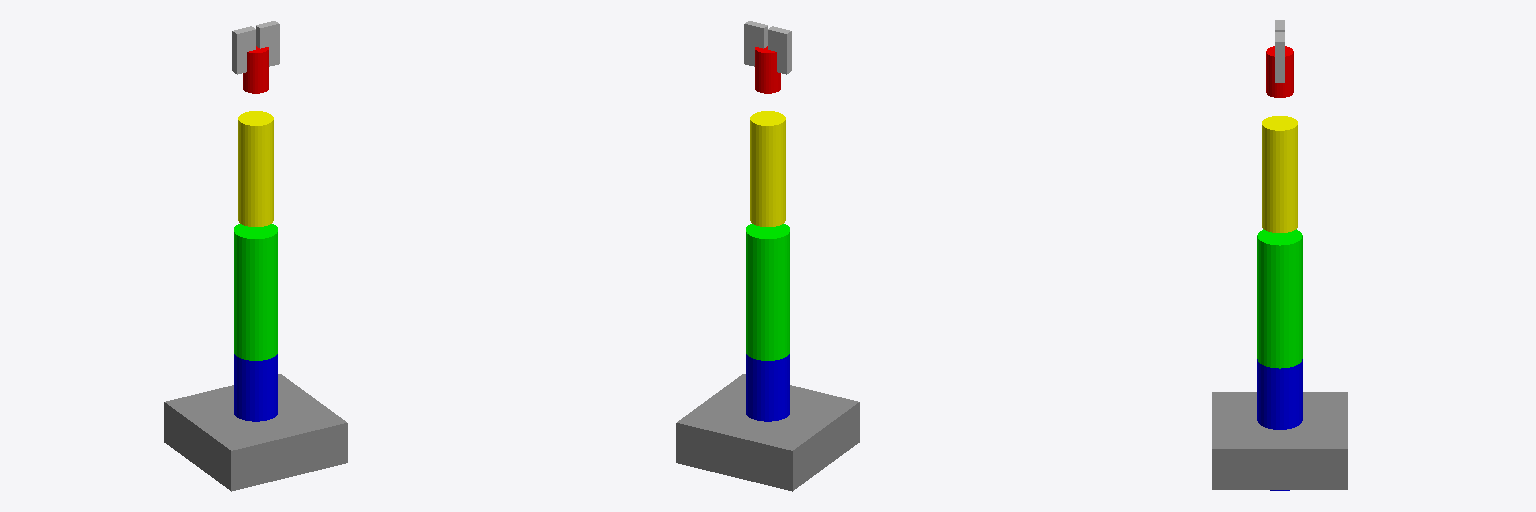
robot.urdf — simple_claw_robot:
<?xml version="1.0"?>
<robot name="simple_claw_robot">

  <!-- Base Link -->
  <link name="base_link">
    <visual>
      <geometry>
        <box size="0.3 0.3 .1"/>
      </geometry>
      <material name="gray">
        <color rgba="0.6 0.6 0.6 1.0"/>
      </material>
    </visual>
  </link>

  <!-- Arm Segment 1 -->
  <link name="arm_link1">
    <visual>
      <geometry>
        <cylinder radius="0.05" length="0.3"/>
      </geometry>
      <material name="blue">
        <color rgba="0.0 0.0 1.0 1.0"/>
      </material>
    </visual>
  </link>

  <joint name="shoulderH" type="revolute">
    <parent link="base_link"/>
    <child link="arm_link1"/>
    <origin xyz="0 0 0.05" rpy="0 0 0"/>
    <axis xyz="0 0 1"/>
    <limit lower="-1.57" upper="1.57" effort="1.0" velocity="1.0"/>
  </joint>

  <!-- Arm Segment 2 -->
  <link name="arm_link2">
    <visual>
      <geometry>
        <cylinder radius="0.05" length="0.3"/>
      </geometry>
      <material name="green">
        <color rgba="0.0 1.0 0.0 1.0"/>
      </material>
    </visual>
  </link>

  <joint name="shoulderV" type="revolute">
    <parent link="arm_link1"/>
    <child link="arm_link2"/>
    <origin xyz="0 0 0.3" rpy="0 0 0"/>
    <axis xyz="0 1 0"/>
    <limit lower="-1.57" upper="1.57" effort="1.0" velocity="1.0"/>
  </joint>

  <!-- Arm Segment 3 -->
  <link name="arm_link3">
    <visual>
      <geometry>
        <cylinder radius="0.04" length="0.25"/>
      </geometry>
      <material name="yellow">
        <color rgba="1.0 1.0 0.0 1.0"/>
      </material>
    </visual>
  </link>

  <joint name="elbow" type="revolute">
    <parent link="arm_link2"/>
    <child link="arm_link3"/>
    <origin xyz="0 0 0.3" rpy="0 0 0"/>
    <axis xyz="0 1 0"/>
    <limit lower="-1.57" upper="1.57" effort="1.0" velocity="1.0"/>
  </joint>

  <!-- Claw Base Link -->
  <link name="claw_base">
    <visual>
      <geometry>
        <cylinder radius="0.03" length="0.1"/>
      </geometry>
      <material name="red">
        <color rgba="1.0 0.0 0.0 1.0"/>
      </material>
    </visual>
  </link>

  <joint name="wrist" type="revolute">
    <parent link="arm_link3"/>
    <child link="claw_base"/>
    <origin xyz="0 0 0.25" rpy="0 0 0"/>
    <axis xyz="0 1 0"/>
    <limit lower="-1.57" upper="1.57" effort="1.0" velocity="1.0"/>
  </joint>

  <!-- Claw Finger 1 -->
  <link name="claw_finger1">
    <visual>
      <geometry>
        <box size="0.05 0.02 0.1"/>
      </geometry>
      <material name="silver">
        <color rgba="0.75 0.75 0.75 1.0"/>
      </material>
    </visual>
  </link>

  <joint name="claw_joint1" type="revolute">
    <parent link="claw_base"/>
    <child link="claw_finger1"/>
    <origin xyz="0.03 0 0.05" rpy="0 0 0"/>
    <axis xyz="0 1 0"/>
    <limit lower="0" upper="1.57" effort="1.0" velocity="1.0"/>
  </joint>

  <!-- Claw Finger 2 -->
  <link name="claw_finger2">
    <visual>
      <geometry>
        <box size="0.05 0.02 0.1"/>
      </geometry>
      <material name="silver">
        <color rgba="0.75 0.75 0.75 1.0"/>
      </material>
    </visual>
  </link>

  <joint name="claw_joint2" type="revolute">
    <parent link="claw_base"/>
    <child link="claw_finger2"/>
    <origin xyz="-0.03 0 0.05" rpy="0 0 0"/>
    <axis xyz="0 1 0"/>
    <limit lower="-1.57" upper="0" effort="1.0" velocity="1.0"/>
  </joint>

</robot>

--- Facts derived from the render (not from the file) ---
Views: 3 orthographic renders of the robot side by side, from view 1: azimuth 30°, elevation 25°; view 2: azimuth 150°, elevation 25°; view 3: azimuth 270°, elevation 25°.
Robot: simple_claw_robot — 7 links, 6 joints (6 revolute); root link base_link; default pose: every joint at zero.
Visible links, largest first — view 1: base_link, arm_link2, arm_link3, arm_link1, claw_base, claw_finger2, claw_finger1; view 2: base_link, arm_link2, arm_link3, arm_link1, claw_base, claw_finger2, claw_finger1; view 3: base_link, arm_link2, arm_link3, arm_link1, claw_base.
Boxes of the visible links, box(x1,y1,x2,y2) form: base_link: box(164, 374, 347, 491); arm_link2: box(234, 224, 277, 360); arm_link3: box(238, 111, 273, 226); arm_link1: box(234, 354, 277, 421); claw_base: box(243, 46, 268, 93); claw_finger2: box(232, 26, 255, 74); claw_finger1: box(256, 21, 279, 66); base_link: box(676, 374, 859, 491); arm_link2: box(746, 224, 789, 360); arm_link3: box(750, 111, 785, 226); arm_link1: box(746, 354, 789, 421); claw_base: box(755, 46, 780, 93); claw_finger2: box(768, 26, 791, 74); claw_finger1: box(744, 21, 767, 66); base_link: box(1212, 392, 1347, 489); arm_link2: box(1257, 229, 1302, 368); arm_link3: box(1262, 116, 1297, 232); arm_link1: box(1257, 359, 1302, 490); claw_base: box(1266, 46, 1293, 97).
Bounding box of the posed robot: 0.3 × 0.3 × 1.1 m (x, y, z).
Geometry: primitives only (box / cylinder / sphere), no mesh files.